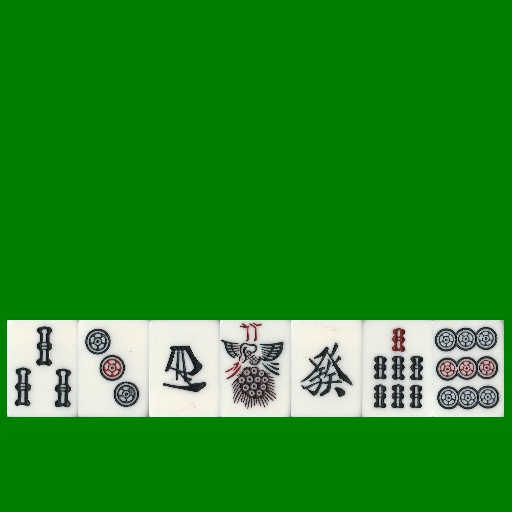1s: (220, 320, 291, 417)
3p: (78, 320, 149, 417)
3s: (7, 320, 78, 417)
7s: (362, 320, 433, 417)
9p: (433, 320, 504, 417)
hatsu: (291, 320, 362, 417)
west: (149, 320, 220, 417)
